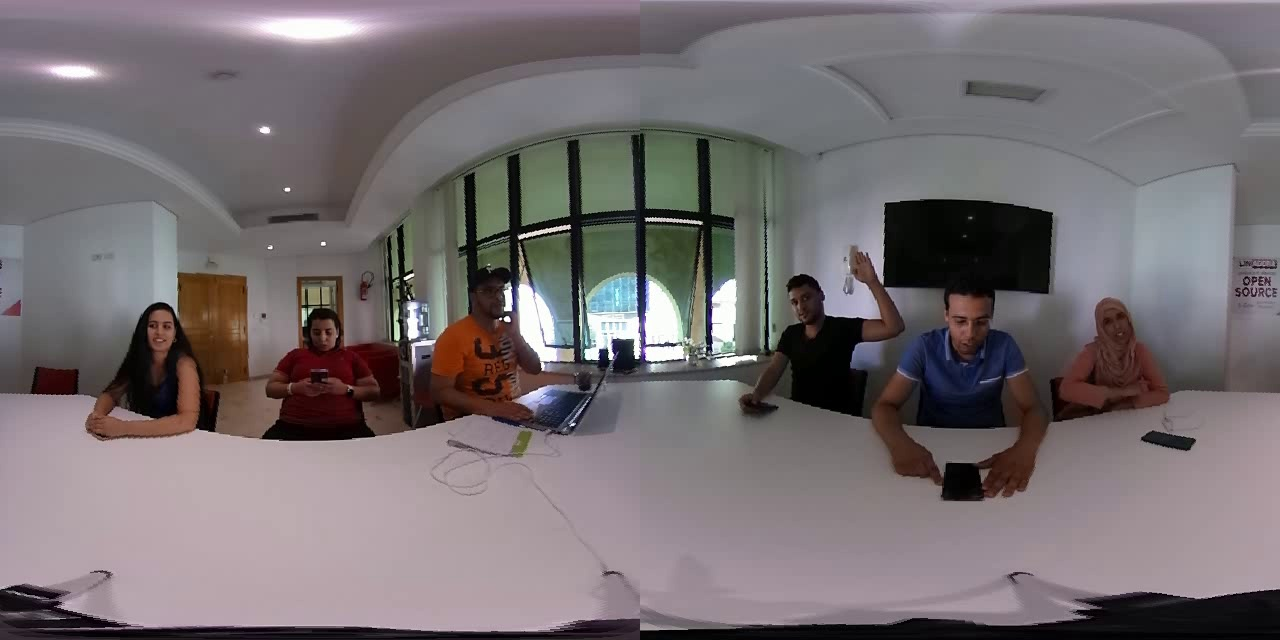person: (880, 249, 1051, 495), (739, 233, 894, 428), (415, 255, 558, 424), (244, 304, 389, 450), (79, 295, 210, 452), (1060, 292, 1183, 422)
voting: (836, 248, 908, 349)
